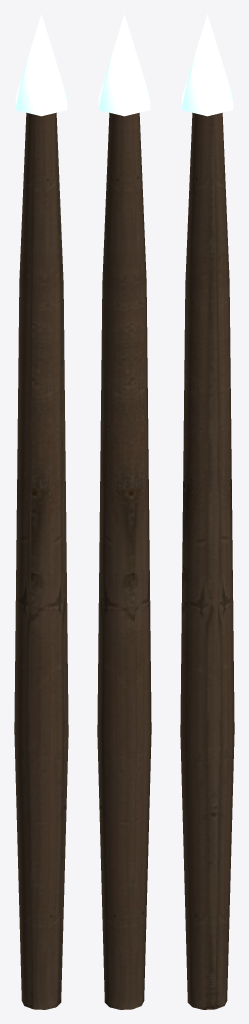
Rendered from wand.glb.
The picture shows the model from 3 angles, left to right: view 1: azimuth 30°, elevation 25°; view 2: azimuth 150°, elevation 25°; view 3: azimuth 330°, elevation 25°; orthographic projection.
Parts seen in each view (by area): view 1: wand; view 2: wand; view 3: wand.
Boxes of the visible parts, bbox=[...] form: wand: bbox=[14, 14, 68, 1009]; wand: bbox=[97, 14, 151, 1009]; wand: bbox=[180, 14, 234, 1009].
Size of the model in its own units: 0.024 by 0.44 by 0.0209.
2 materials, 1 textured.
